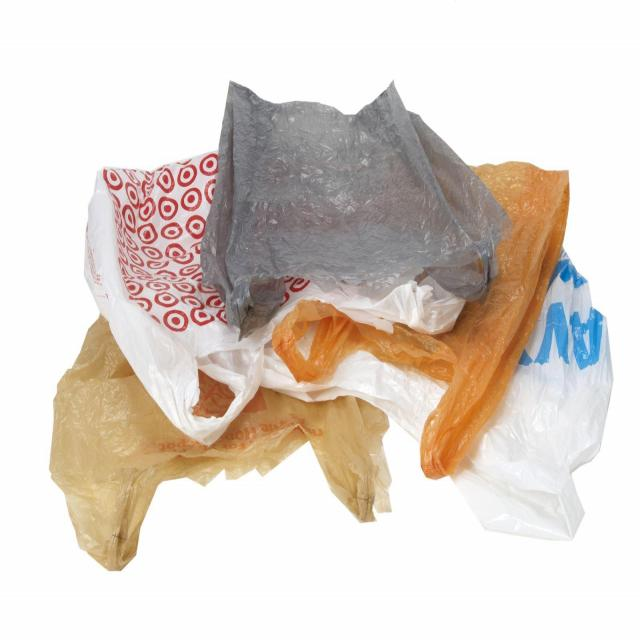plastic_bag: (87, 175, 474, 455), (273, 136, 574, 481), (55, 316, 397, 574), (215, 75, 514, 340), (480, 242, 613, 557)
